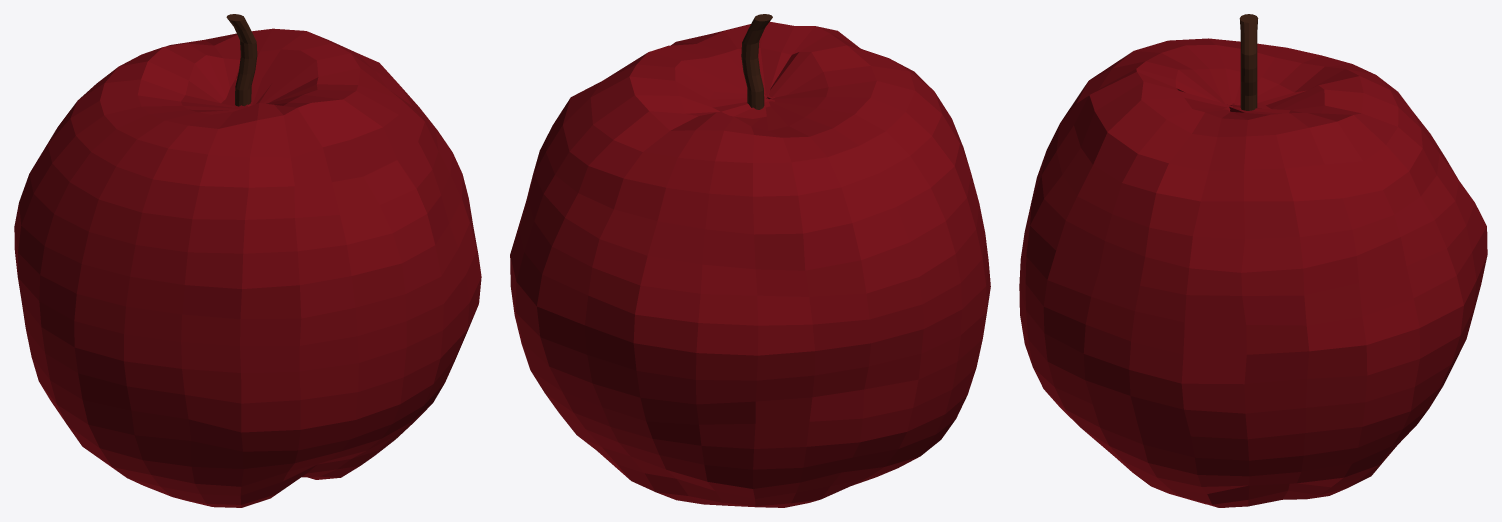
Rendered from Apple.fbx.
3 views of the same model, side by side, from view 1: azimuth 30°, elevation 25°; view 2: azimuth 150°, elevation 25°; view 3: azimuth 270°, elevation 25° (orthographic). The views are drawn at different scales.
Parts seen in each view (by area): view 1: Apple, Apple.001; view 2: Apple, Apple.001; view 3: Apple, Apple.001.
Boxes of the visible parts, x1=… form: Apple: x1=14, y1=28, x2=481, y2=507; Apple.001: x1=226, y1=14, x2=257, y2=106; Apple: x1=510, y1=21, x2=990, y2=507; Apple.001: x1=741, y1=14, x2=772, y2=109; Apple: x1=1019, y1=38, x2=1487, y2=507; Apple.001: x1=1239, y1=14, x2=1258, y2=110.
Bounding box in the file's own units: 66.56 × 71.05 × 66.77.
